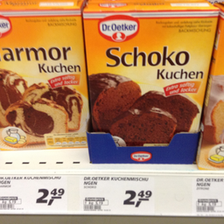cake: (83, 2, 219, 167), (1, 1, 87, 154)
